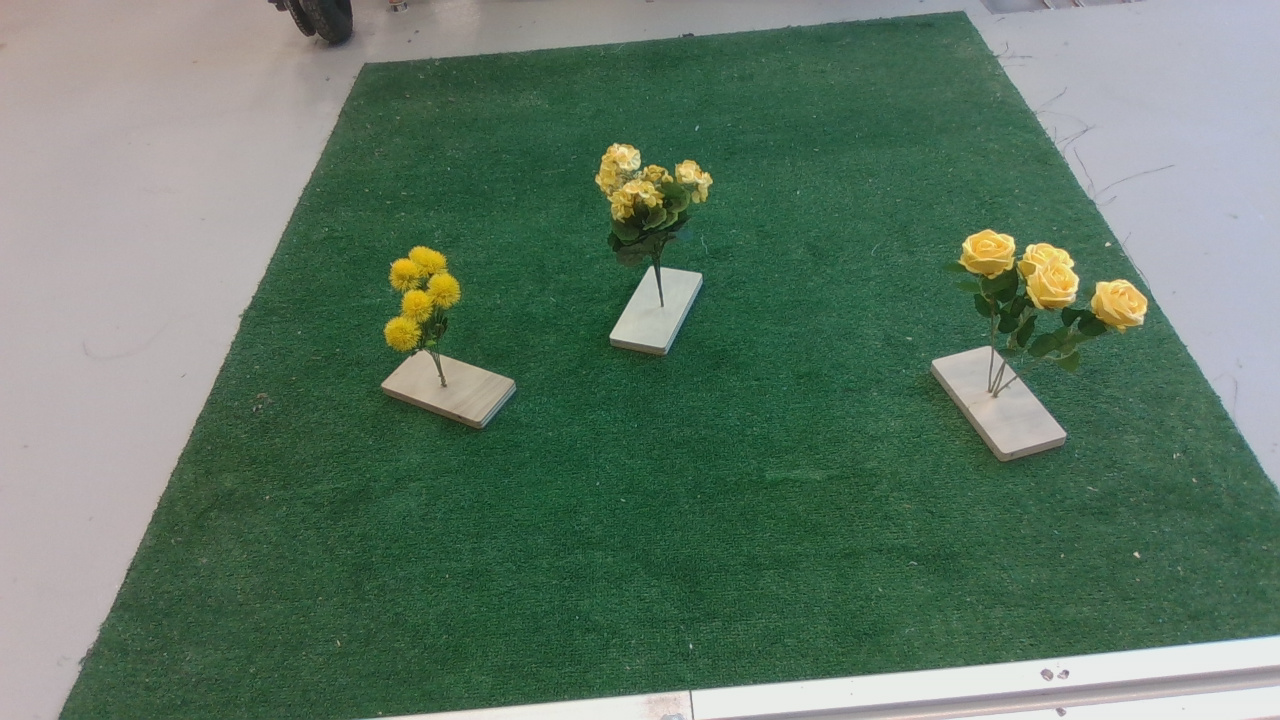dandelion: (380, 242, 472, 372)
geranium: (588, 144, 729, 275)
rose: (949, 226, 1160, 372)
